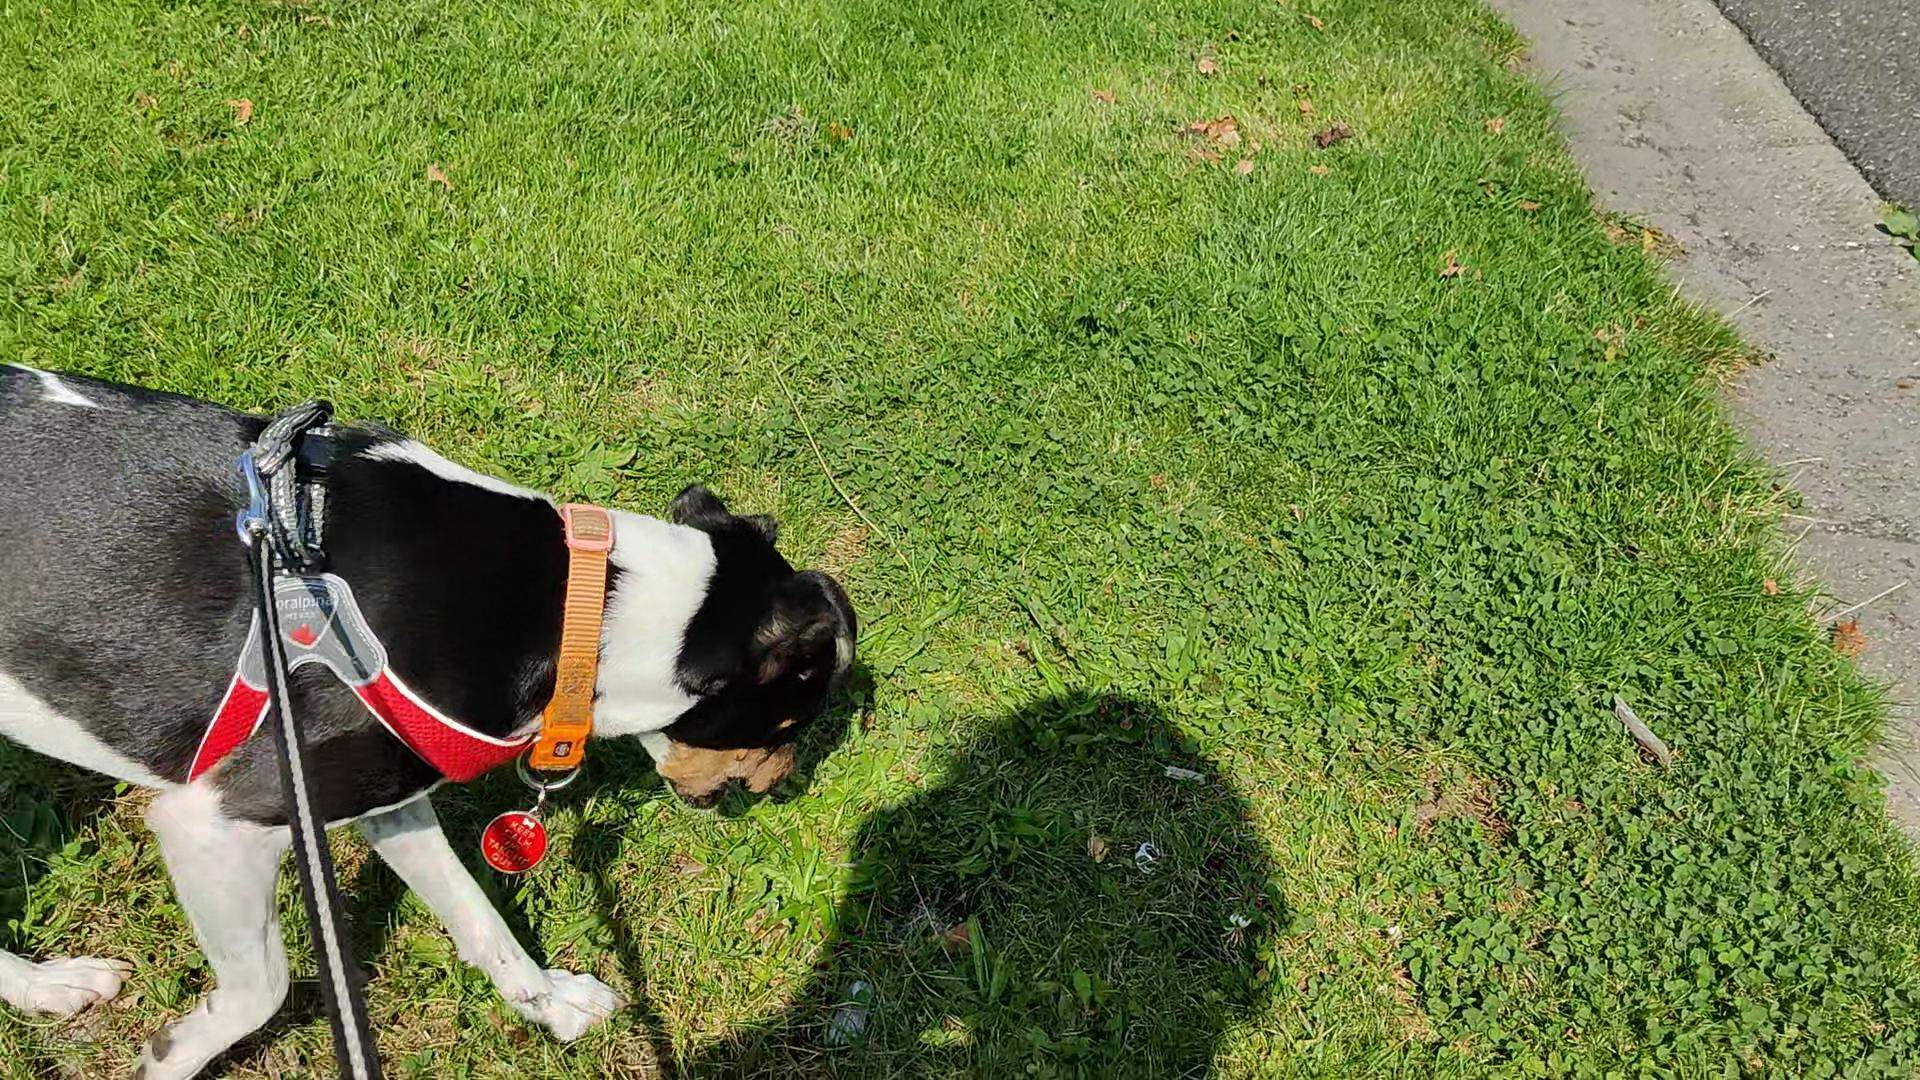Dog: (0, 351, 870, 1079)
